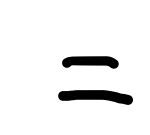eqv: (59, 56, 133, 105)
